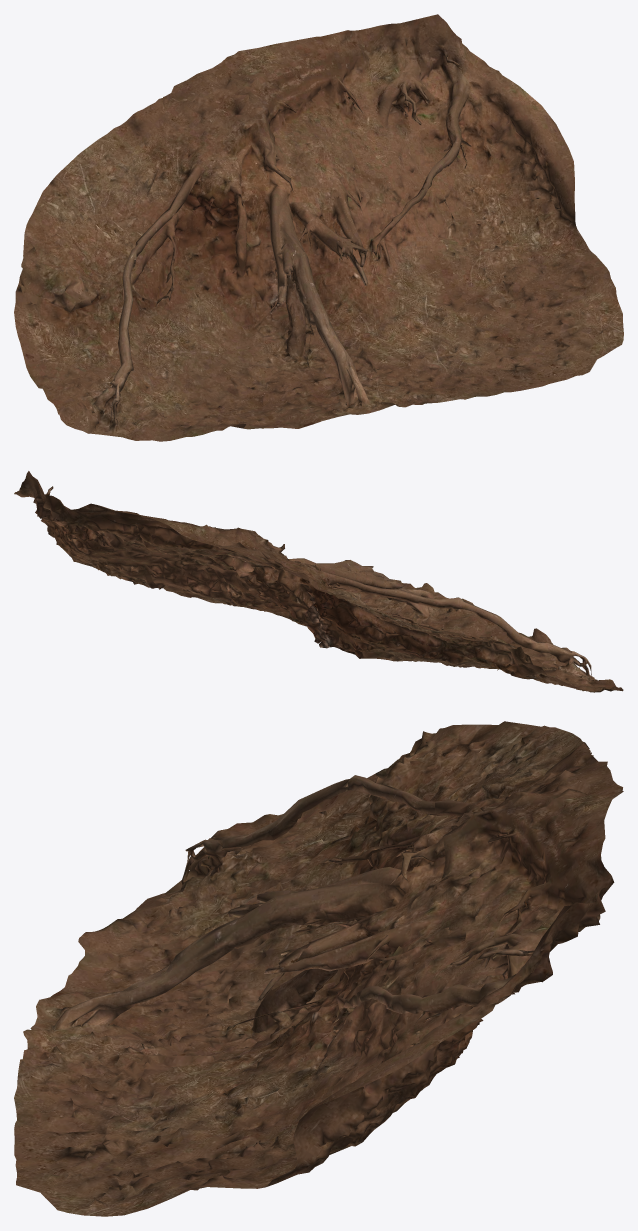
The model's file is root_cluster_01.glb.
The picture shows the model from 3 angles, top to bottom: view 1: azimuth 30°, elevation 25°; view 2: azimuth 150°, elevation 25°; view 3: azimuth 270°, elevation 25°; orthographic projection. The views are drawn at different scales.
Visible parts, largest first — view 1: root_cluster_01; view 2: root_cluster_01; view 3: root_cluster_01.
Boxes of the visible parts, <box> form: root_cluster_01: <box>14,14,623,441</box>; root_cluster_01: <box>14,471,623,692</box>; root_cluster_01: <box>14,721,623,1216</box>.
Bounding box in the file's own units: 4.12 × 1.51 × 2.68.
1 material, 1 textured.
